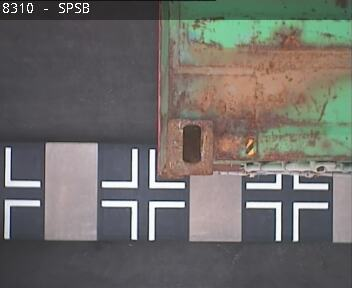groundmarker_1: (100, 198, 186, 241), (100, 148, 186, 189), (245, 201, 328, 241), (5, 147, 40, 239), (245, 174, 328, 189)
